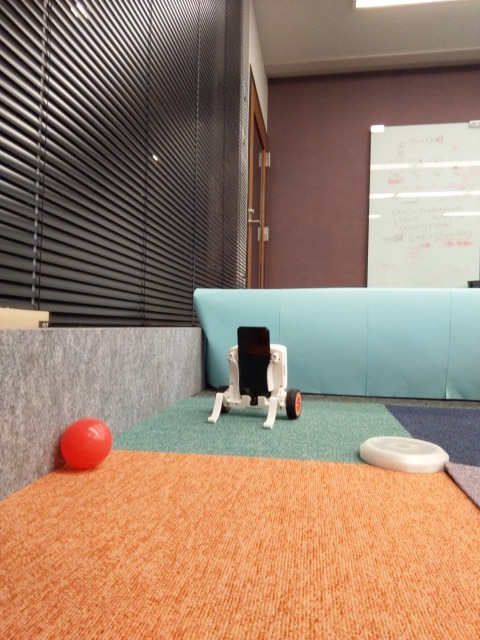f: (206, 324, 303, 430)
o: (354, 432, 454, 476)
